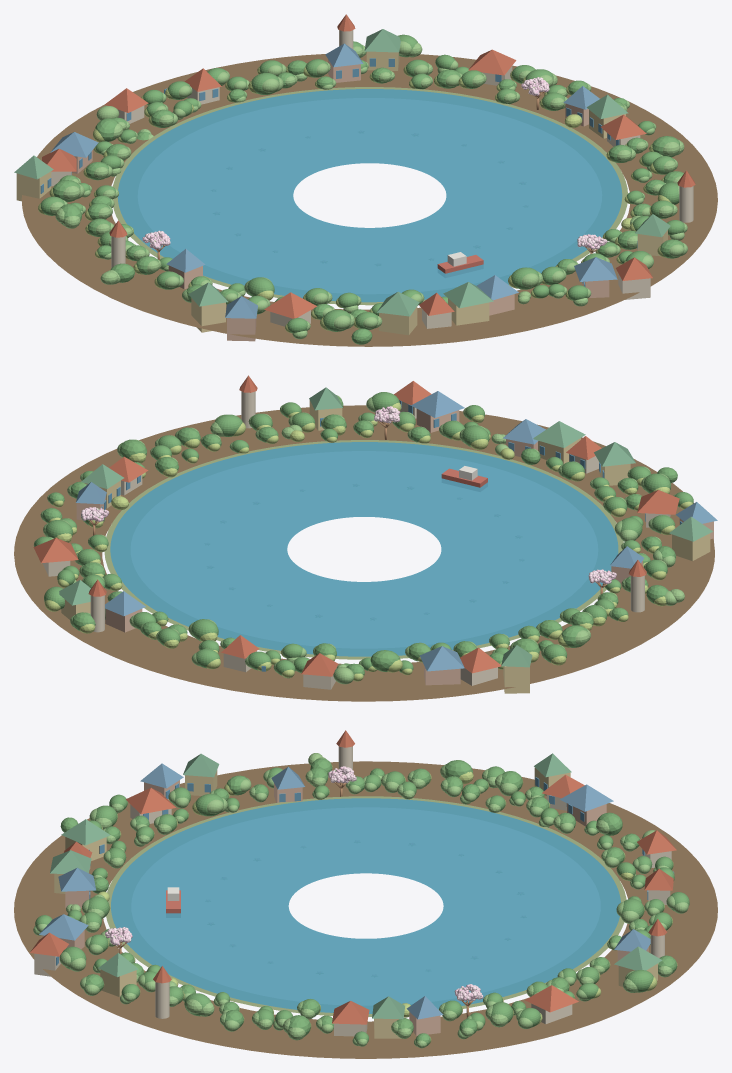
The model's file is atelier_environment_ext_web.glb.
The picture shows the model from 3 angles, top to bottom: view 1: azimuth 30°, elevation 25°; view 2: azimuth 150°, elevation 25°; view 3: azimuth 270°, elevation 25°; orthographic projection.
Parts seen in each view (by area): view 1: EXT Water Surface, EXT Soil Shore, EXT Green Shore, EXT House 7 Roof, EXT House 3 Roof, EXT House 11 Roof, EXT House 15 Roof, EXT House 11 Body, EXT House 17 Body, EXT House 14 Body, EXT House 19 Roof, EXT House 20 Body (+14 smaller); view 2: EXT Water Surface, EXT Soil Shore, EXT Green Shore, EXT House 15 Roof, EXT House 19 Roof, EXT House 3 Roof, EXT House 7 Roof, EXT House 11 Roof, EXT House 17 Body, EXT House 20 Body, EXT House 14 Roof, EXT House 18 Roof (+10 smaller); view 3: EXT Water Surface, EXT Soil Shore, EXT Green Shore, EXT House 19 Roof, EXT House 3 Roof, EXT House 15 Roof, EXT House 7 Roof, EXT House 11 Roof, EXT House 6 Roof, EXT House 10 Roof, EXT House 14 Roof, EXT House 2 Roof (+10 smaller).
Part boxes in pixels (bbox=[...]): EXT Water Surface: bbox=[117, 89, 622, 302]; EXT Soil Shore: bbox=[21, 53, 717, 346]; EXT Green Shore: bbox=[112, 87, 627, 305]; EXT House 7 Roof: bbox=[574, 257, 617, 281]; EXT House 3 Roof: bbox=[468, 49, 516, 75]; EXT House 11 Roof: bbox=[443, 282, 493, 308]; EXT House 15 Roof: bbox=[264, 292, 316, 318]; EXT House 11 Body: bbox=[448, 298, 489, 325]; EXT House 17 Body: bbox=[191, 298, 225, 332]; EXT House 14 Body: bbox=[379, 306, 417, 335]; EXT House 19 Roof: bbox=[50, 132, 98, 157]; EXT House 20 Body: bbox=[16, 171, 51, 201]; EXT Water Surface: bbox=[110, 442, 618, 656]; EXT Soil Shore: bbox=[14, 405, 714, 701]; EXT Green Shore: bbox=[104, 440, 623, 659]; EXT House 15 Roof: bbox=[637, 490, 679, 514]; EXT House 19 Roof: bbox=[419, 646, 464, 671]; EXT House 3 Roof: bbox=[33, 538, 78, 563]; EXT House 7 Roof: bbox=[411, 391, 464, 417]; EXT House 11 Roof: bbox=[533, 421, 585, 447]; EXT House 17 Body: bbox=[672, 533, 710, 560]; EXT House 20 Body: bbox=[503, 666, 529, 693]; EXT House 14 Roof: bbox=[594, 442, 635, 466]; EXT House 18 Roof: bbox=[460, 647, 501, 673]; EXT Water Surface: bbox=[111, 798, 620, 1013]; EXT Soil Shore: bbox=[14, 761, 717, 1058]; EXT Green Shore: bbox=[106, 796, 626, 1016]; EXT House 19 Roof: bbox=[560, 784, 613, 811]; EXT House 3 Roof: bbox=[525, 985, 578, 1012]; EXT House 15 Roof: bbox=[126, 788, 175, 814]; EXT House 7 Roof: bbox=[39, 914, 88, 940]; EXT House 11 Roof: bbox=[50, 850, 91, 873]; EXT House 6 Roof: bbox=[332, 1001, 369, 1024]; EXT House 10 Roof: bbox=[58, 867, 95, 891]; EXT House 14 Roof: bbox=[61, 819, 110, 845]; EXT House 2 Roof: bbox=[614, 946, 662, 970].
Bounding box in the file's own units: 93.82 × 10.23 × 93.82.
